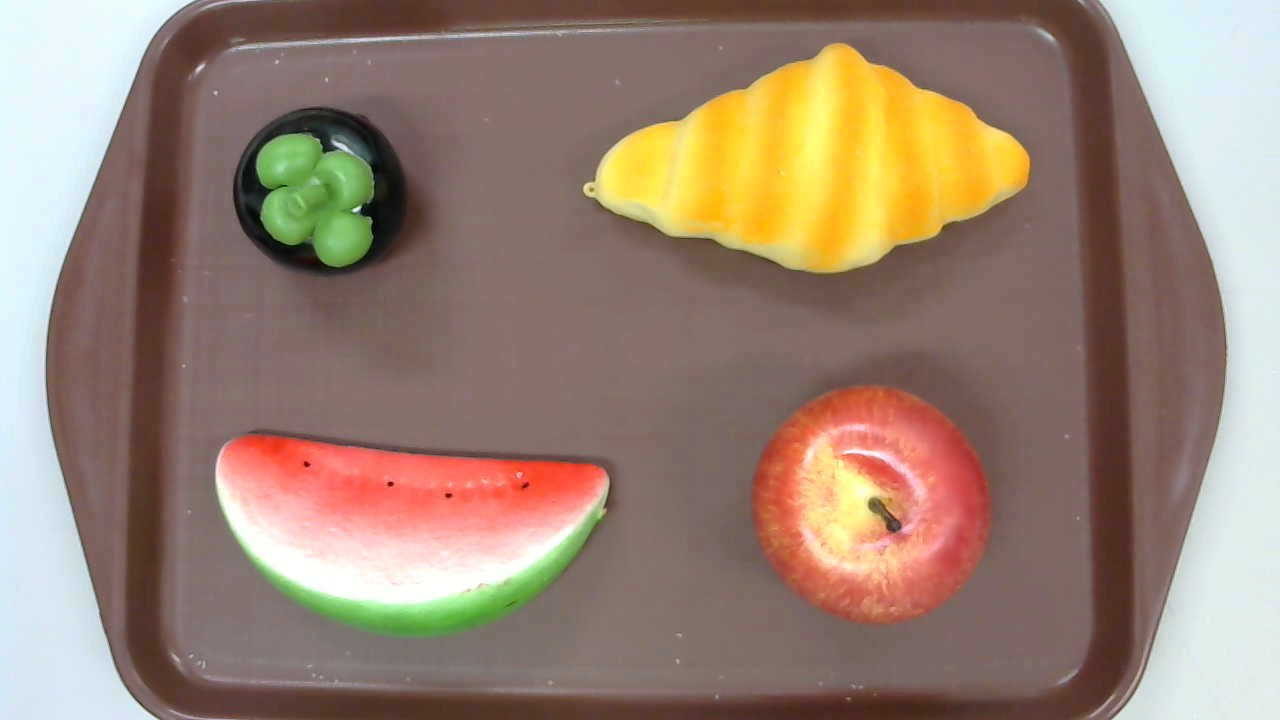croissant: (581, 43, 1029, 274)
mangosteen: (233, 106, 404, 277)
red apple: (750, 383, 990, 620)
water melon: (214, 432, 610, 639)
